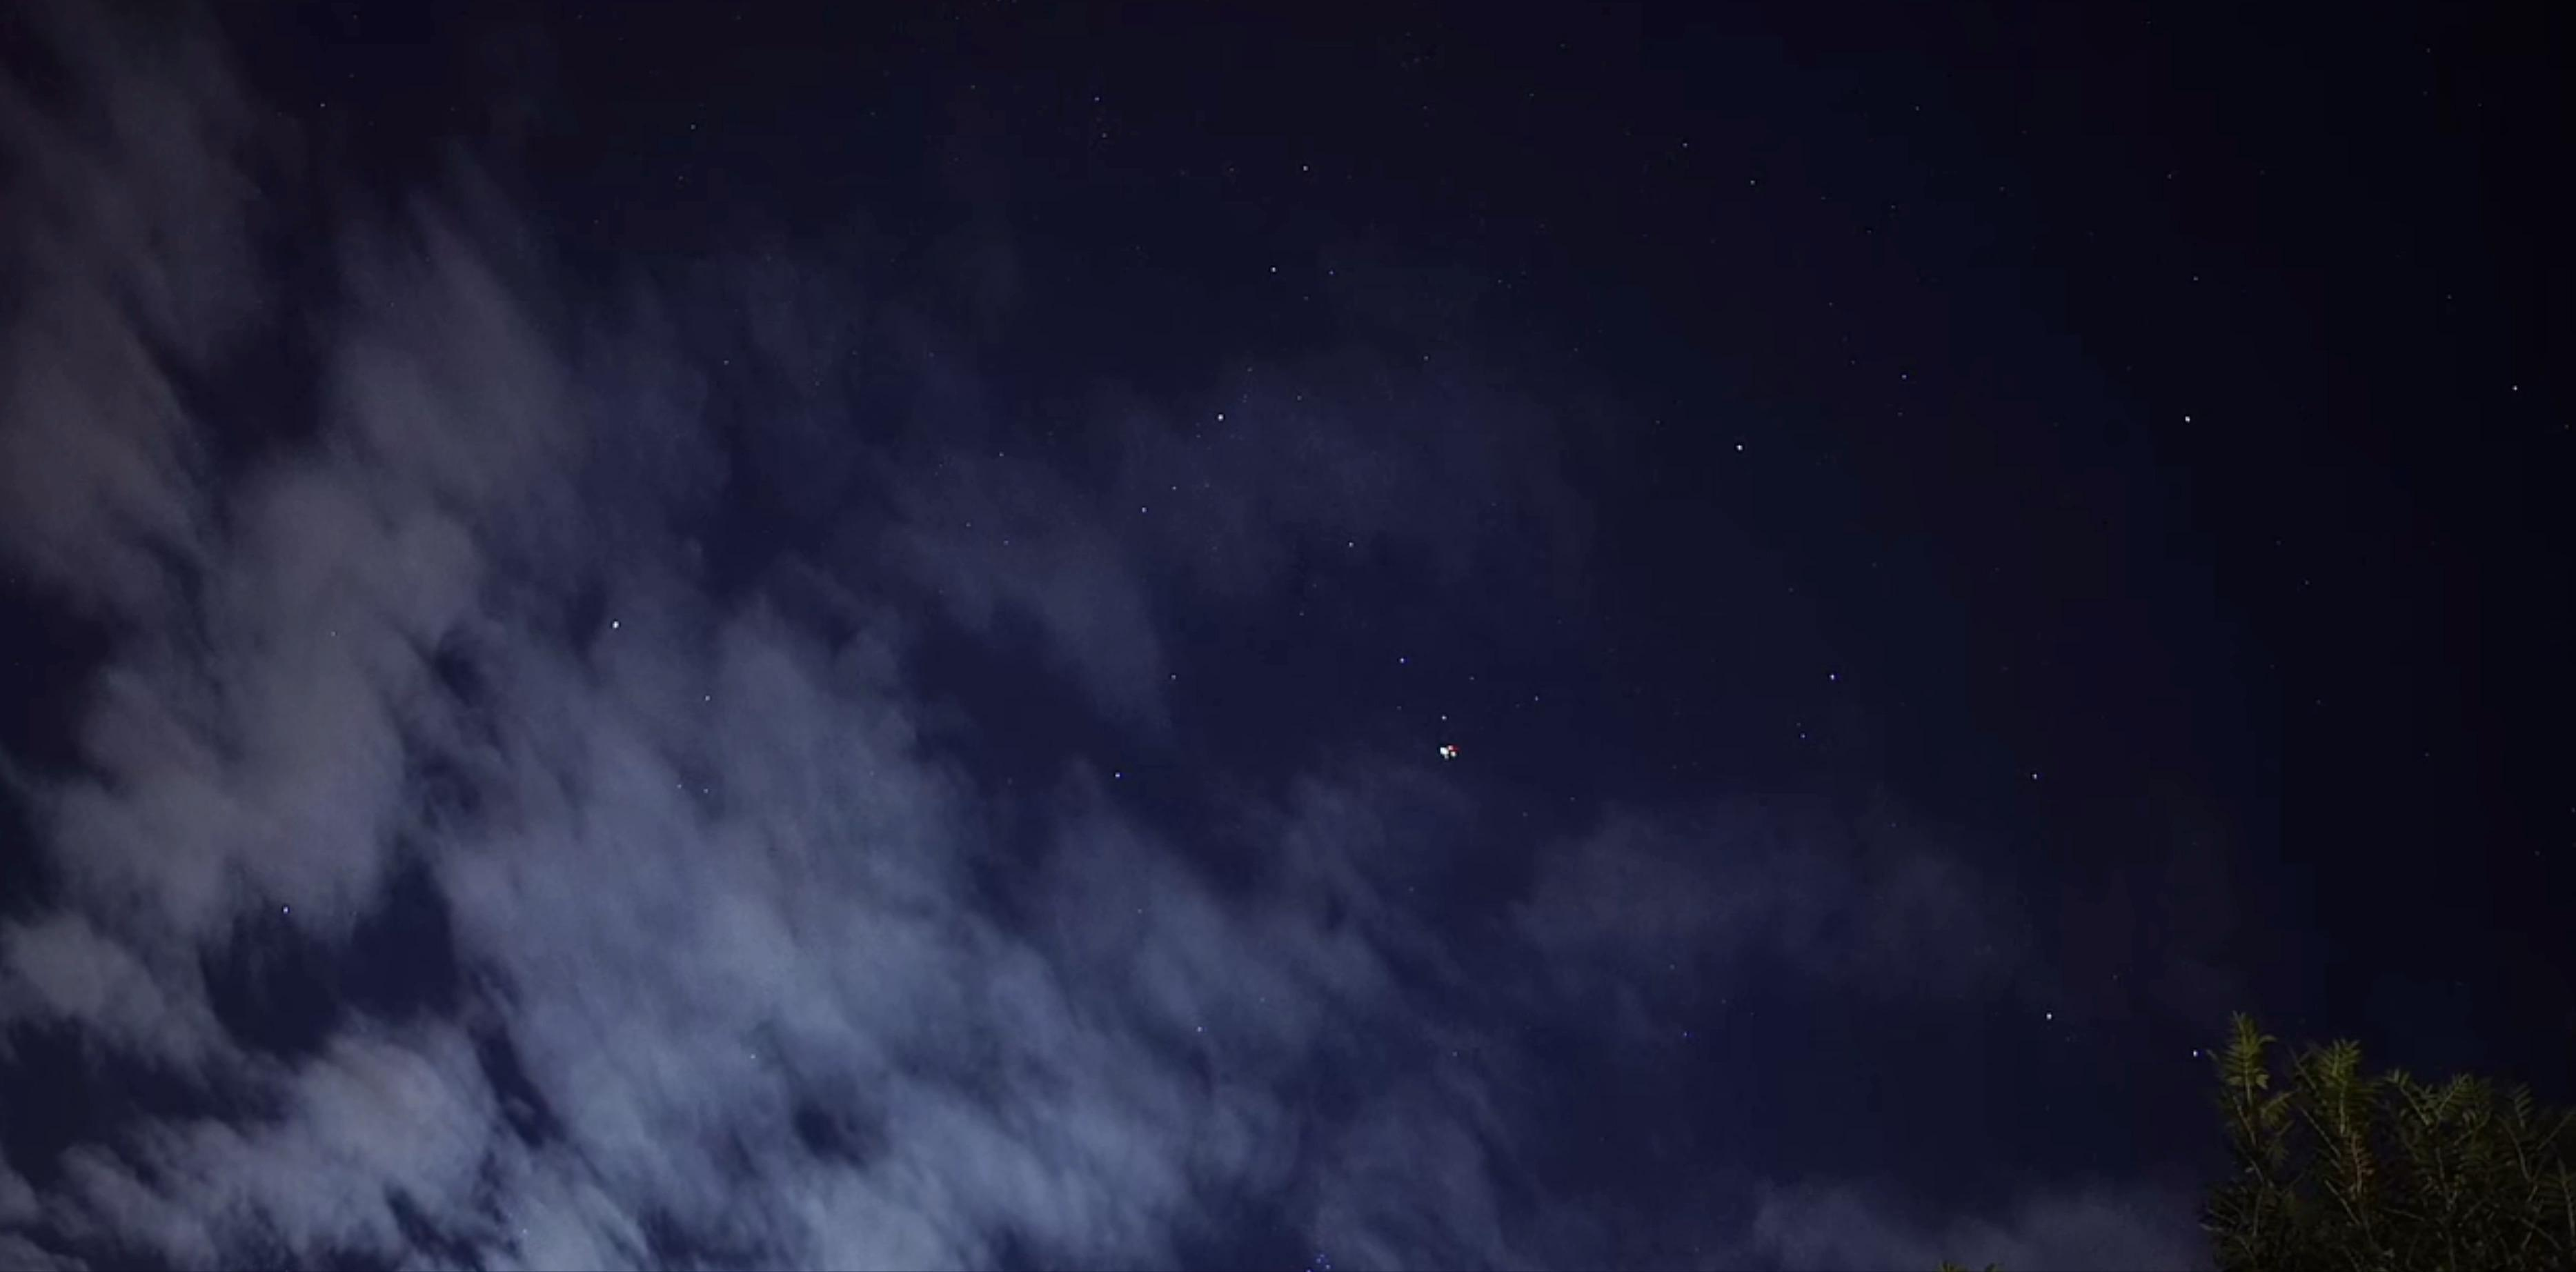Plane: (1413, 735, 1487, 769)
